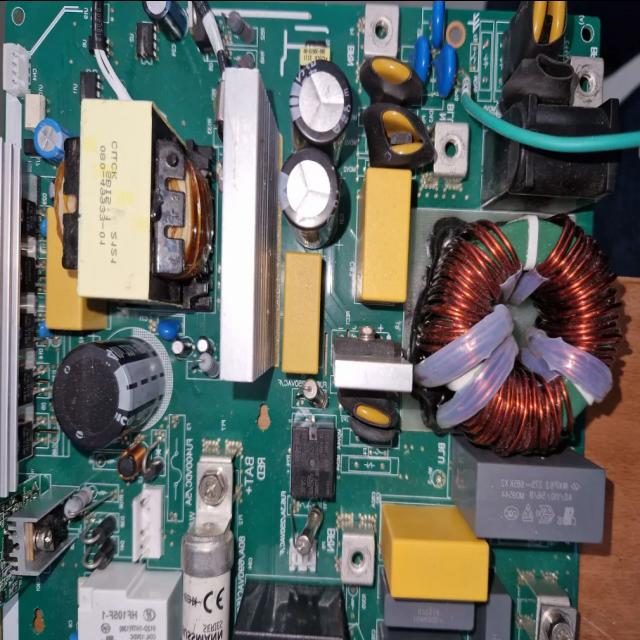A: (422, 216, 620, 454)
B: (180, 454, 234, 640)
C: (53, 340, 164, 444), (277, 147, 341, 235), (289, 60, 352, 144)
